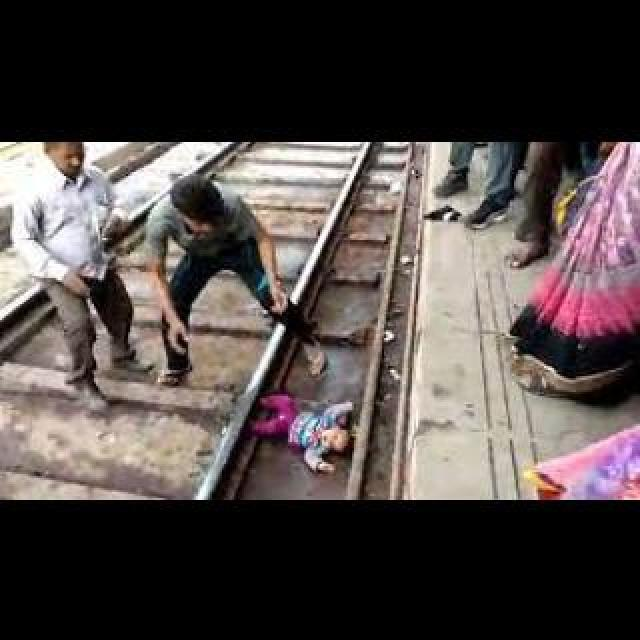people: (15, 142, 137, 400), (140, 167, 292, 361), (249, 386, 365, 470)
